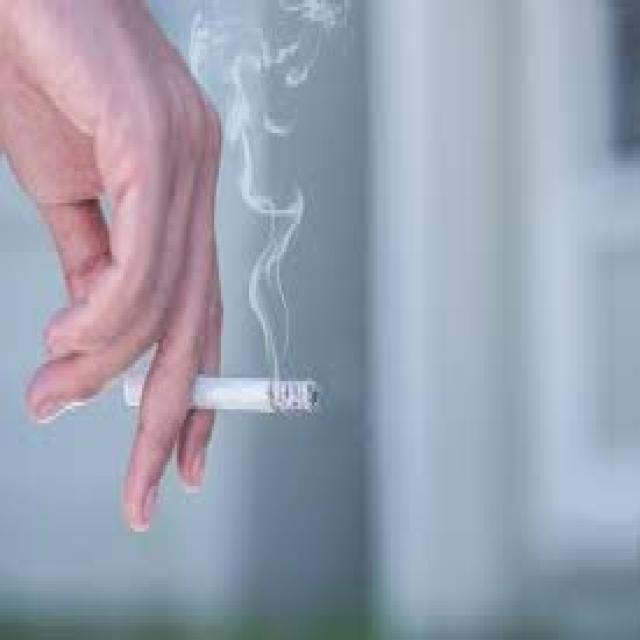rokok: (115, 362, 325, 420)
